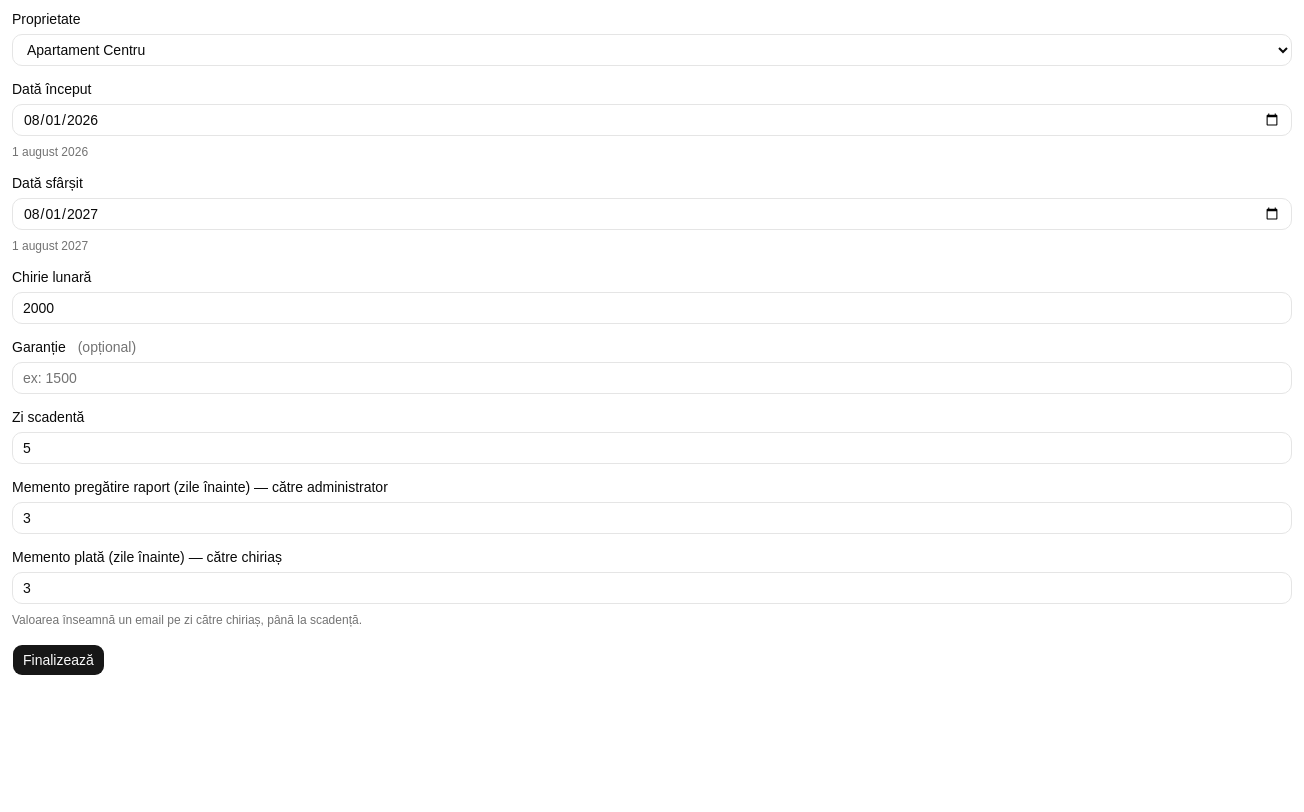
Test: StepContract — finalize errors › FR-CON-02 (existing account already has an active tenancy) shows a clear inline message
Click the button "Finalizează" at (58, 660), box [12,644,105,676]
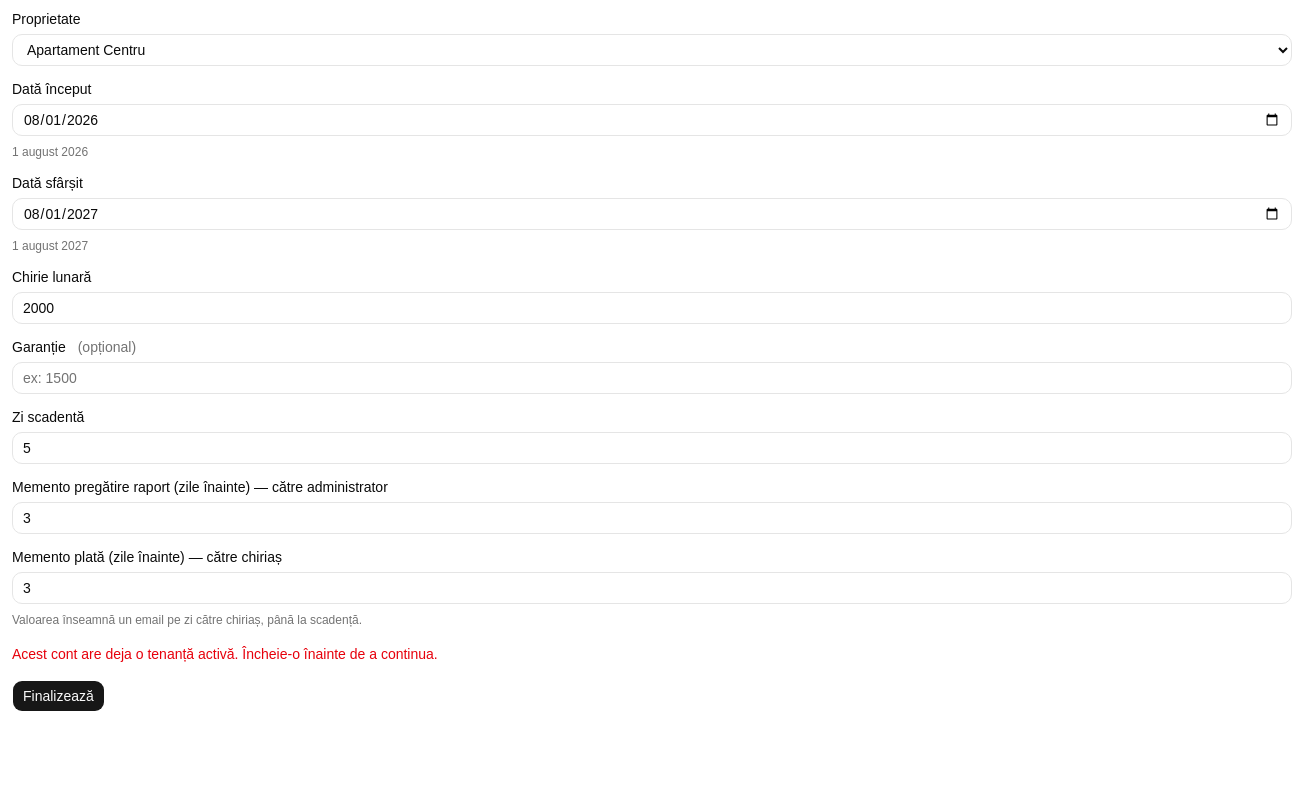
Now the message shows "Acest cont are deja o tenanță activă", box [12,646,438,662]
